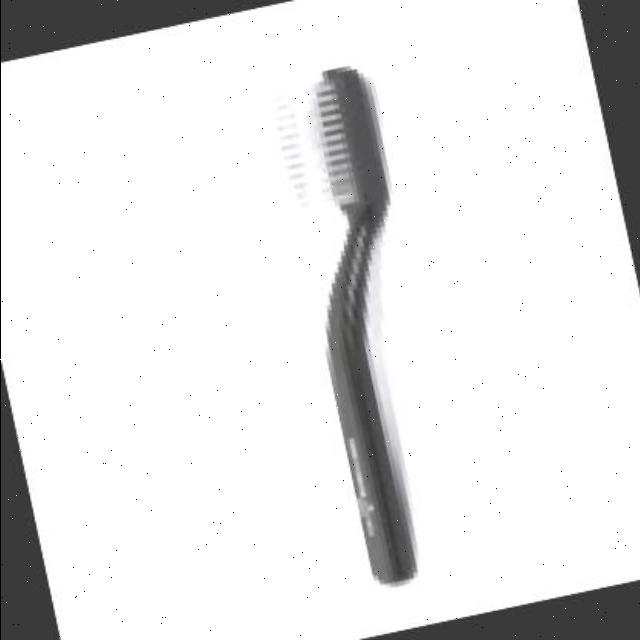toothbrush: (199, 22, 511, 618)
